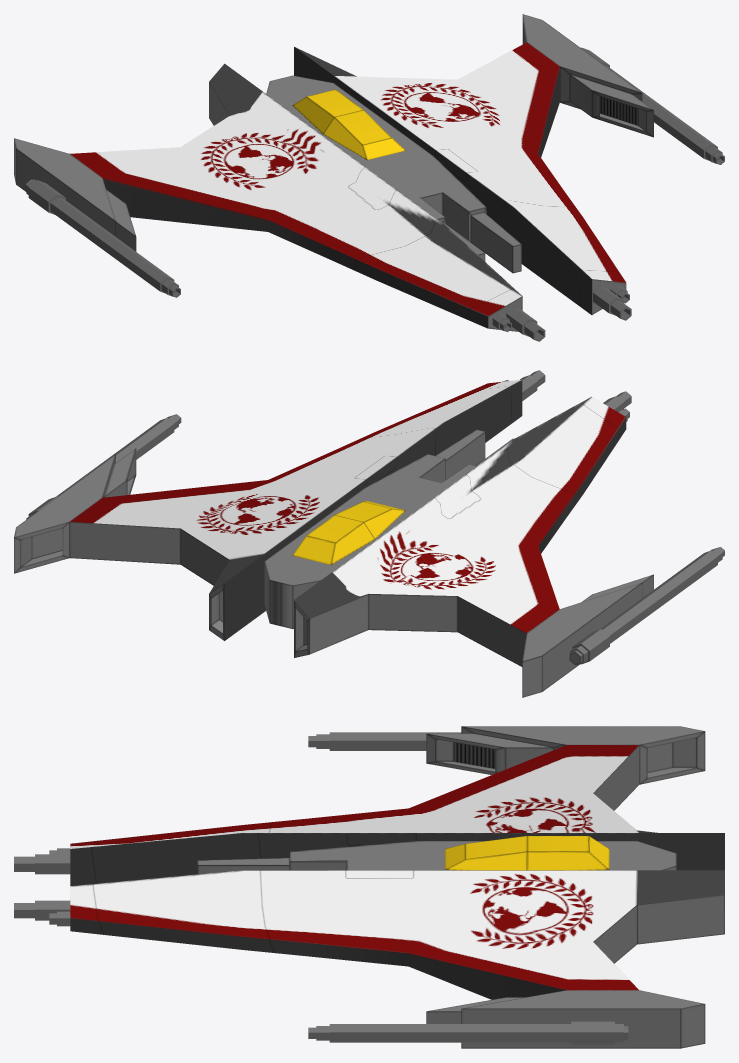
The model's file is Test_Fighter.fbx.
3 renders of one model, top to bottom at view 1: azimuth 30°, elevation 25°; view 2: azimuth 150°, elevation 25°; view 3: azimuth 270°, elevation 25°, orthographic. The views are drawn at different scales.
Parts seen in each view (by area): view 1: polySurface74; view 2: polySurface74; view 3: polySurface74.
Part boxes in pixels (x1,y1,x2,y2): polySurface74: (14,14,724,341); polySurface74: (14,370,724,697); polySurface74: (14,726,724,1048).
Size of the model in its own units: 16.21 by 1.8 by 16.18.
